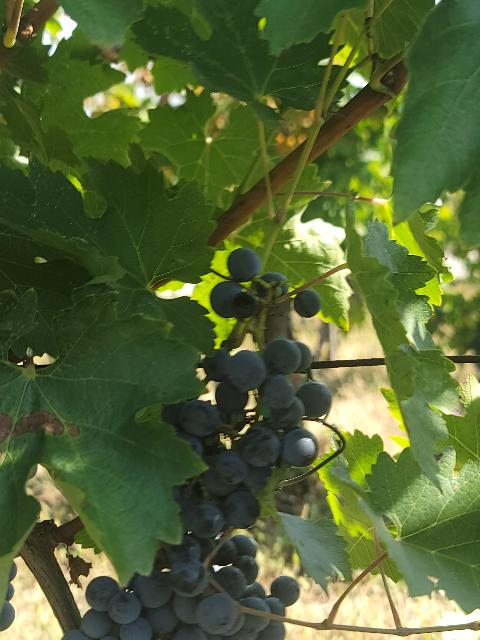grapes: (161, 339, 331, 538), (63, 534, 300, 640)
